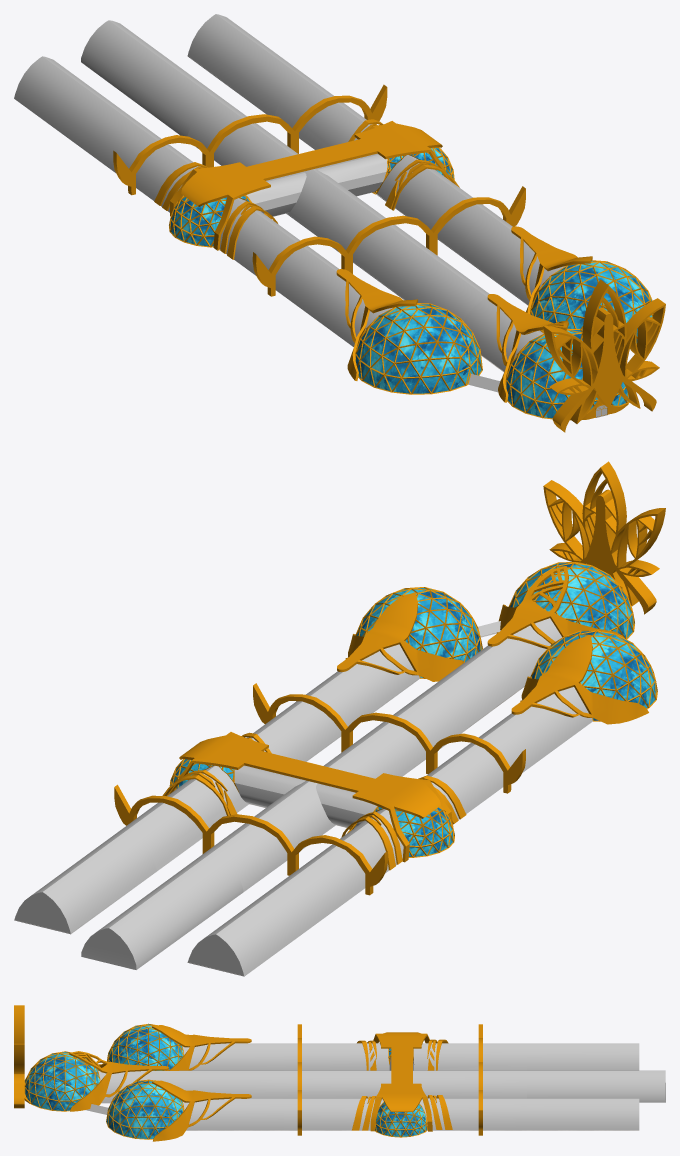
The model's file is SM_Greenhouse.fbx.
The picture shows the model from 3 angles, top to bottom: view 1: azimuth 30°, elevation 25°; view 2: azimuth 150°, elevation 25°; view 3: azimuth 270°, elevation 25°; orthographic projection. The views are drawn at different scales.
Parts seen in each view (by area): view 1: SM_GreenHouseGold_LOD0, SM_GreenHouseSphereL_LOD0, SM_GreenHousePasC08_LOD0, SM_GreenHousePasC04_LOD0, SM_GreenHousePasL08_LOD0, SM_GreenHousePasR08_LOD0, SM_GreenHousePasR04_LOD0, SM_GreenHousePasR02_LOD0, SM_GreenHouseSphereR_LOD0, SM_GreenHousePasL02_LOD0, SM_GreenHousePasC06_LOD0, SM_GreenHousePasR06_LOD0 (+10 smaller); view 2: SM_GreenHouseGold_LOD0, SM_GreenHousePasC08_LOD0, SM_GreenHousePasR08_LOD0, SM_GreenHousePasL08_LOD0, SM_GreenHousePasC06_LOD0, SM_GreenHousePasC04_LOD0, SM_GreenHousePasR06_LOD0, SM_GreenHousePasR02_LOD0, SM_GreenHousePasL02_LOD0, SM_GreenHouseSphereC_LOD0, SM_GreenHouseSphereL_LOD0, SM_GreenHousePasL06_LOD0 (+11 smaller); view 3: SM_GreenHouseGold_LOD0, SM_GreenHousePasC07_LOD0, SM_GreenHousePasR07_LOD0, SM_GreenHousePasC03_LOD0, SM_GreenHousePasL07_LOD0, SM_GreenHouseSphereC_LOD0, SM_GreenHousePasR01_LOD0, SM_GreenHousePasC05_LOD0, SM_GreenHousePasL05_LOD0, SM_GreenHouseSphereR_LOD0, SM_GreenHousePasR05_LOD0, SM_GreenHousePasL03_LOD0 (+7 smaller).
Boxes of the visible parts, x1,y1,x2,y2 form: SM_GreenHouseGold_LOD0: (113,84,665,432); SM_GreenHouseSphereL_LOD0: (355,304,481,393); SM_GreenHousePasC08_LOD0: (81,20,214,136); SM_GreenHousePasC04_LOD0: (286,169,429,297); SM_GreenHousePasL08_LOD0: (14,56,128,161); SM_GreenHousePasR08_LOD0: (187,14,301,115); SM_GreenHousePasR04_LOD0: (377,155,487,255); SM_GreenHousePasR02_LOD0: (460,213,562,305); SM_GreenHouseSphereR_LOD0: (531,261,652,343); SM_GreenHousePasL02_LOD0: (286,256,388,346); SM_GreenHousePasC06_LOD0: (187,98,306,172); SM_GreenHousePasR06_LOD0: (274,77,368,149); SM_GreenHouseGold_LOD0: (114,461,665,895); SM_GreenHousePasC08_LOD0: (109,850,243,969); SM_GreenHousePasR08_LOD0: (43,829,156,933); SM_GreenHousePasL08_LOD0: (216,871,330,976); SM_GreenHousePasC06_LOD0: (215,781,335,892); SM_GreenHousePasC04_LOD0: (316,693,458,783); SM_GreenHousePasR06_LOD0: (129,766,248,871); SM_GreenHousePasR02_LOD0: (315,644,419,726); SM_GreenHousePasL02_LOD0: (489,687,592,772); SM_GreenHouseSphereC_LOD0: (510,563,634,638); SM_GreenHouseSphereL_LOD0: (531,631,656,720); SM_GreenHousePasL06_LOD0: (302,810,403,913); SM_GreenHouseGold_LOD0: (14,1005,482,1141); SM_GreenHousePasC07_LOD0: (527,1071,665,1102); SM_GreenHousePasR07_LOD0: (527,1098,639,1130); SM_GreenHousePasC03_LOD0: (247,1071,391,1098); SM_GreenHousePasL07_LOD0: (527,1043,639,1070); SM_GreenHouseSphereC_LOD0: (25,1052,99,1110); SM_GreenHousePasR01_LOD0: (182,1098,283,1130); SM_GreenHousePasC05_LOD0: (413,1071,526,1098); SM_GreenHousePasL05_LOD0: (413,1043,526,1070); SM_GreenHouseSphereR_LOD0: (106,1081,182,1138); SM_GreenHousePasR05_LOD0: (419,1098,526,1130); SM_GreenHousePasL03_LOD0: (284,1043,389,1070).
Size of what is drawn, in the model's own units: 126 by 57.68 by 370.
